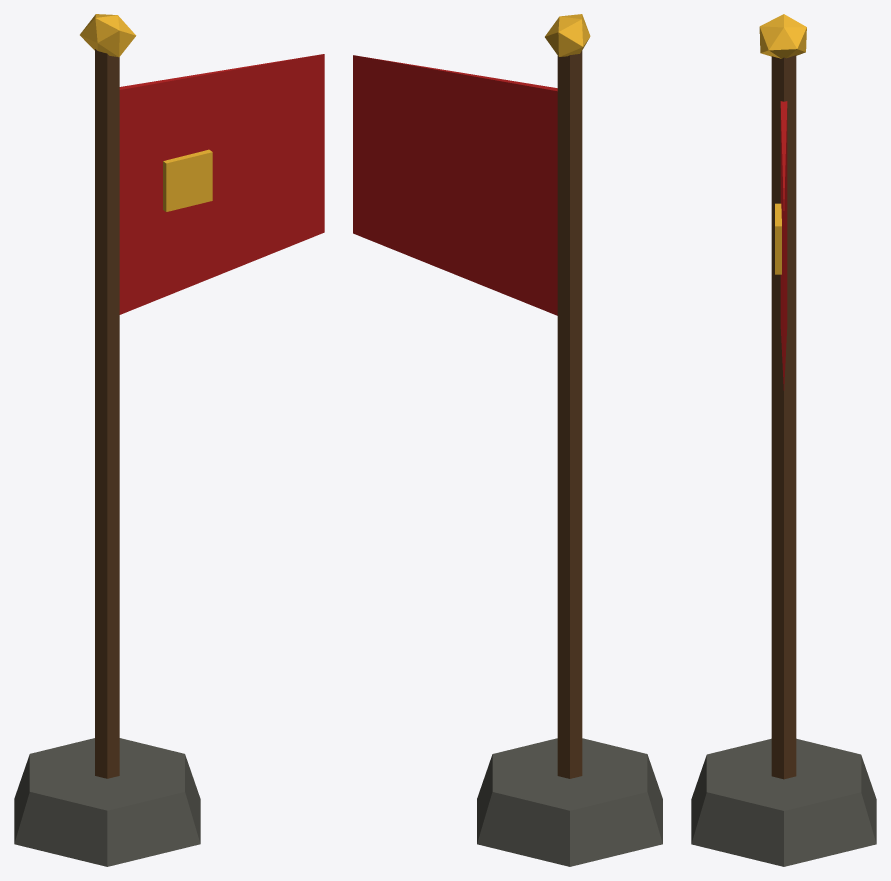
Rendered from checkpoint.glb.
The picture shows the model from 3 angles, left to right: view 1: azimuth 30°, elevation 25°; view 2: azimuth 150°, elevation 25°; view 3: azimuth 270°, elevation 25°; orthographic projection.
Visible parts, largest first — view 1: Flag_fabric_red, stone_dark, wood_dark, Flag_gold, gold; view 2: Flag_fabric_red, stone_dark, wood_dark, gold; view 3: stone_dark, wood_dark, Flag_fabric_red, gold, Flag_gold.
Boxes of the visible parts, <box> form: Flag_fabric_red: <box>119,54,324,314</box>; stone_dark: <box>14,738,200,866</box>; wood_dark: <box>95,49,119,778</box>; Flag_gold: <box>163,149,212,211</box>; gold: <box>80,14,136,57</box>; Flag_fabric_red: <box>353,55,557,315</box>; stone_dark: <box>477,738,662,866</box>; wood_dark: <box>557,50,582,778</box>; gold: <box>545,14,590,56</box>; stone_dark: <box>691,738,876,866</box>; wood_dark: <box>771,55,796,779</box>; Flag_fabric_red: <box>780,101,787,390</box>; gold: <box>759,14,806,58</box>; Flag_gold: <box>775,203,781,274</box>.
Size of the model in its own units: 1 by 2.48 by 0.5196.
